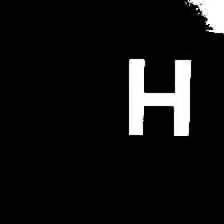LTR_H: (119, 48, 193, 144)
